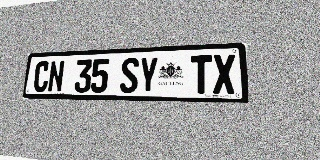3: (74, 59, 92, 93)
5: (90, 59, 109, 93)
C: (33, 61, 50, 92)
N: (47, 60, 65, 92)
S: (120, 57, 139, 93)
T: (191, 55, 212, 94)
X: (213, 54, 236, 94)
Y: (138, 57, 158, 93)
